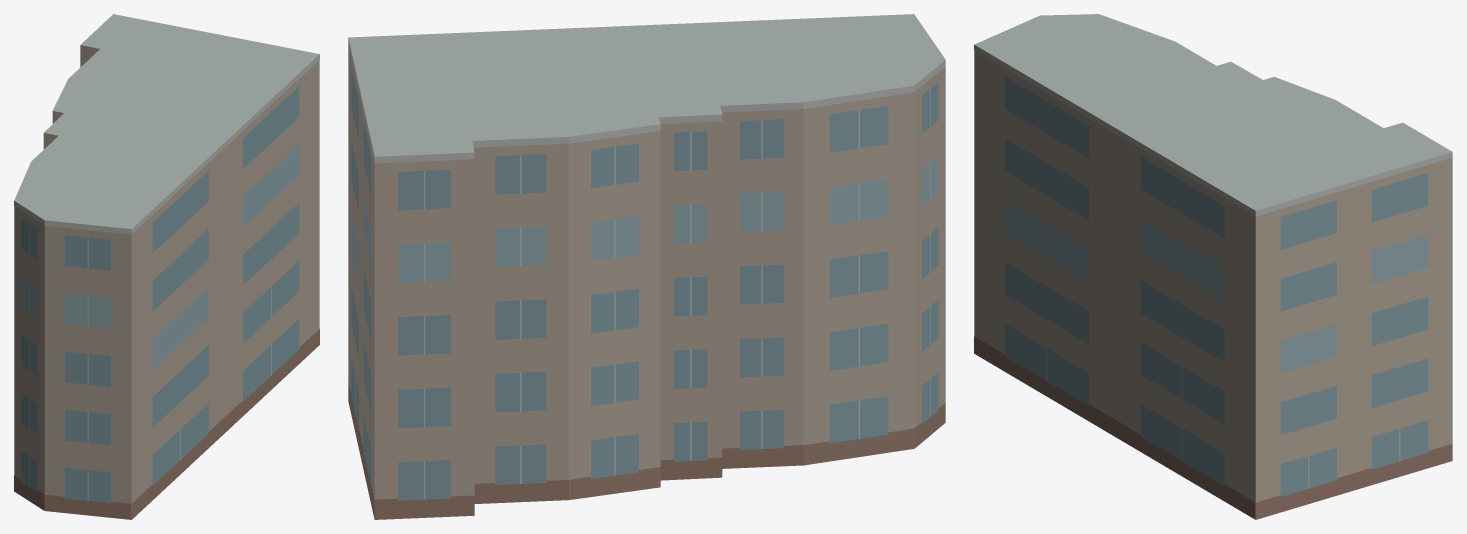
File: survey-upis-32872867.glb
3 views of the same model, side by side, from view 1: azimuth 30°, elevation 25°; view 2: azimuth 150°, elevation 25°; view 3: azimuth 270°, elevation 25° (orthographic). The views are drawn at different scales.
Parts seen in each view (by area): view 1: survey-upis-32872867.tmp; view 2: survey-upis-32872867.tmp; view 3: survey-upis-32872867.tmp.
Boxes of the visible parts, x1=… form: survey-upis-32872867.tmp: x1=14, y1=14, x2=319, y2=519; survey-upis-32872867.tmp: x1=348, y1=14, x2=945, y2=519; survey-upis-32872867.tmp: x1=974, y1=14, x2=1452, y2=519.
Size of the model in its own units: 18.04 by 13.2 by 18.53.
